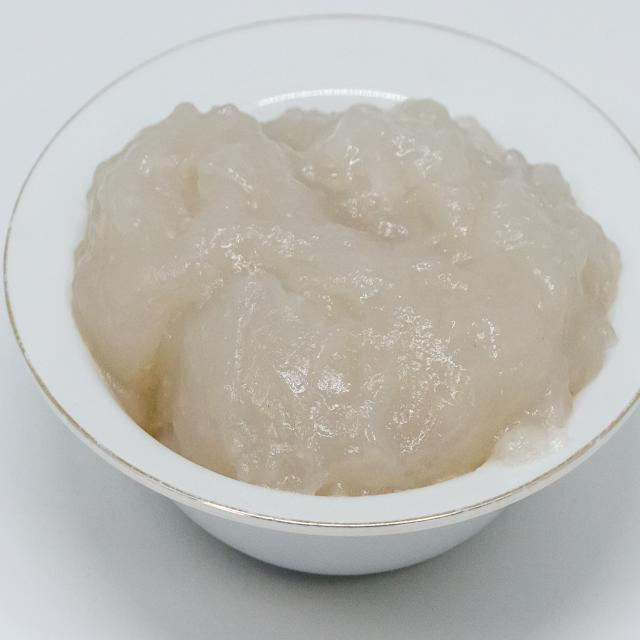Papeda: (56, 70, 626, 524)
